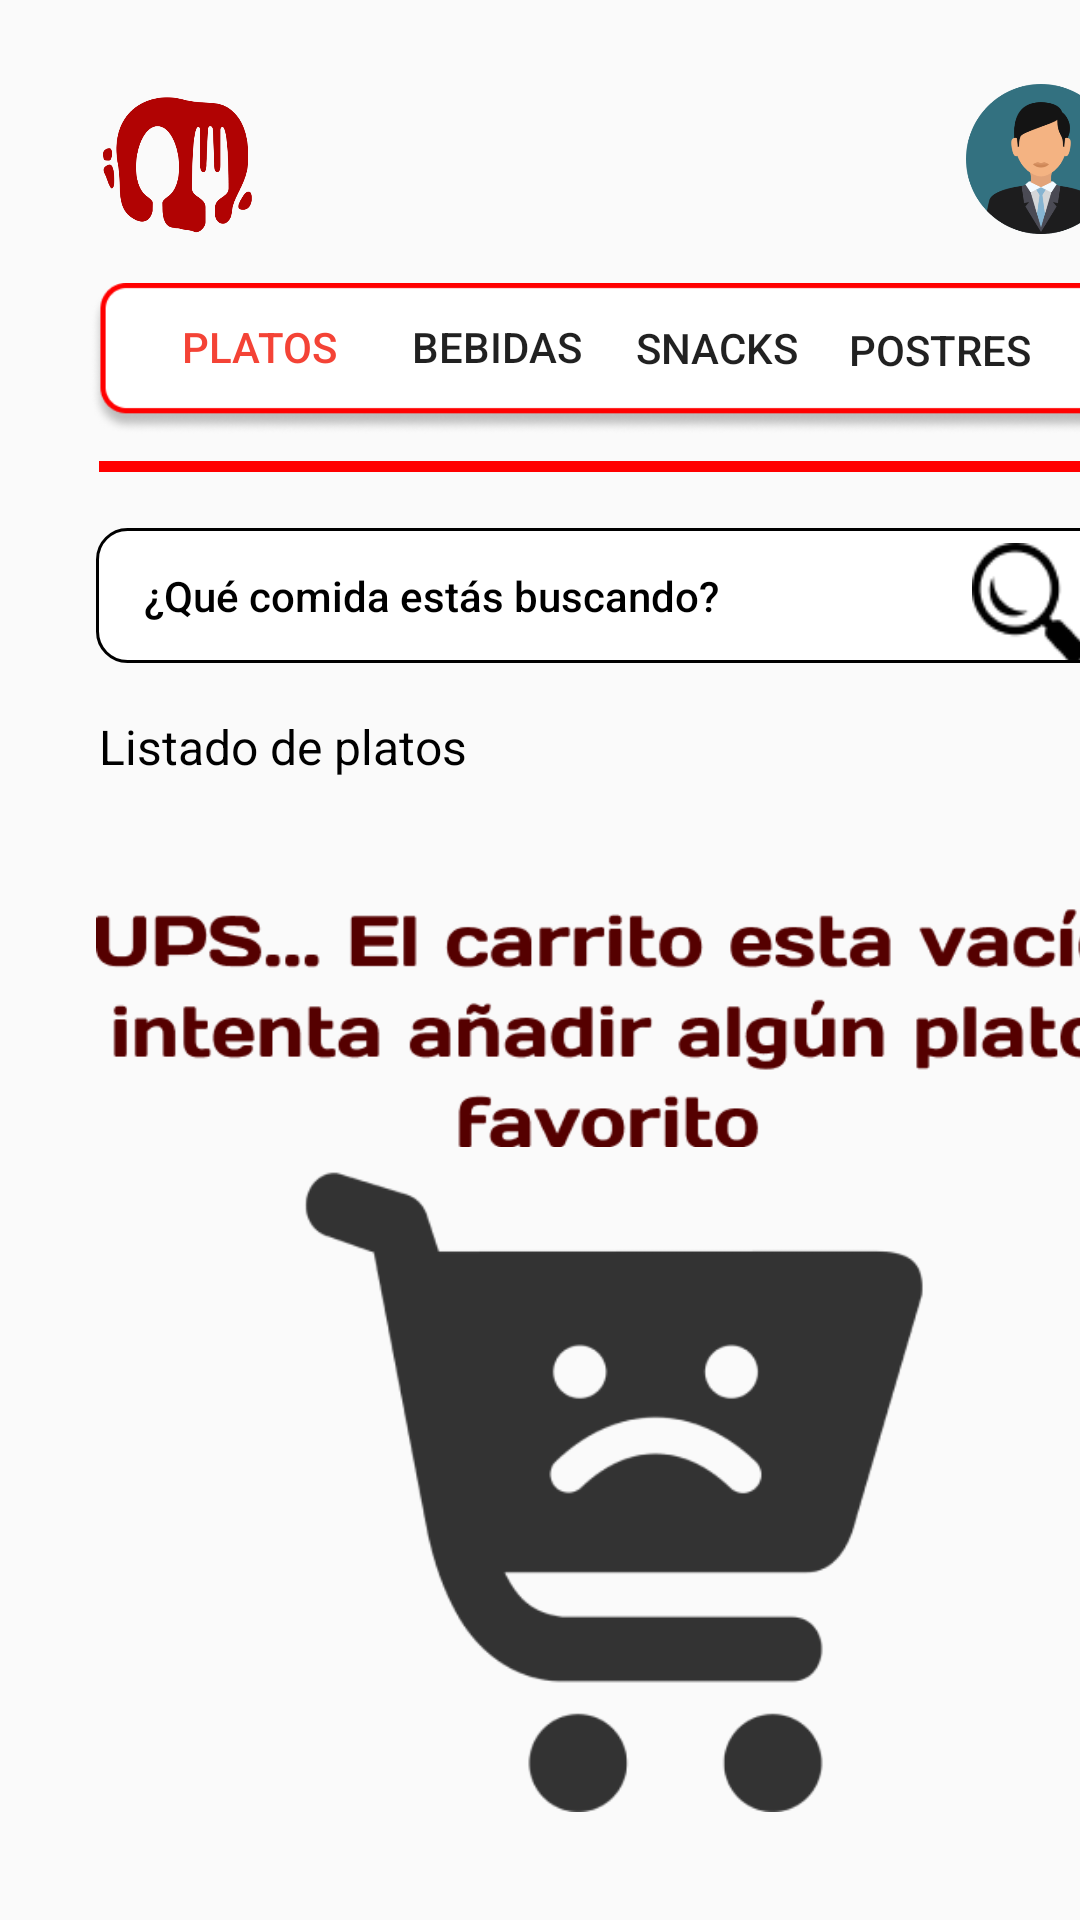

Icon bounding boxes for this 1080×1920 phone screenshot, format (x1, y1, x2, y2):
imglupa: (972, 543, 1080, 663)
